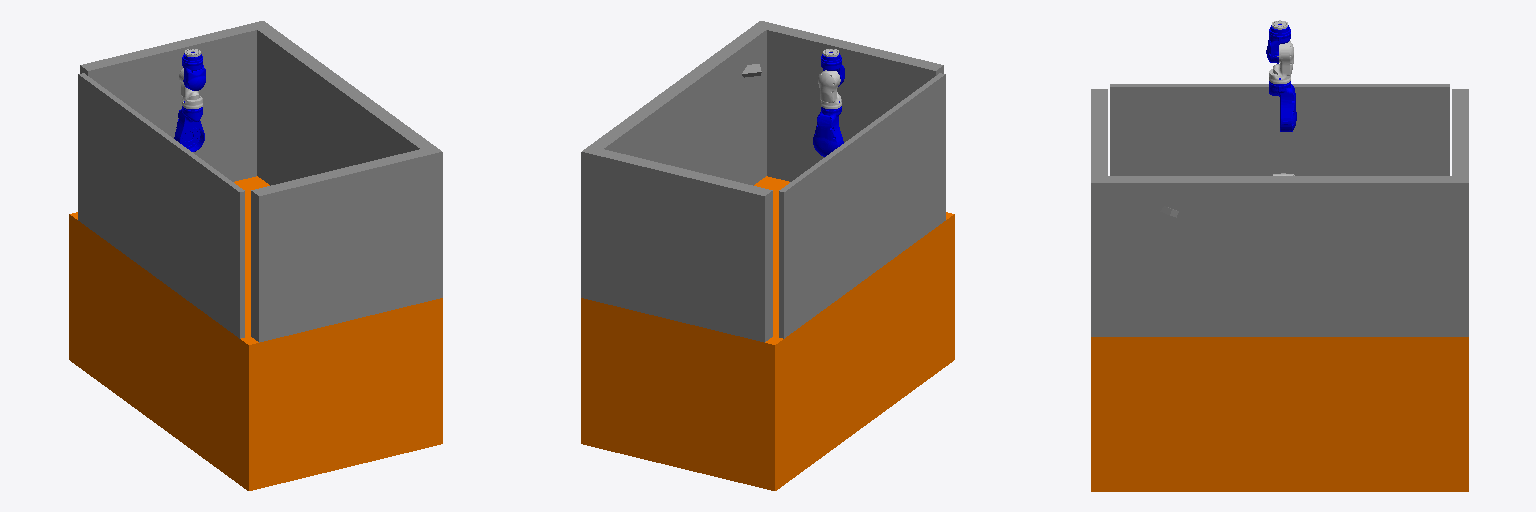
The robot description file, URDF, robot "mantis_sia20d":
<?xml version="1.0" ?>
<!-- =================================================================================== -->
<!-- |    This document was autogenerated by xacro from mantis_sia20d_arm_workspace.xacro | -->
<!-- |    EDITING THIS FILE BY HAND IS NOT RECOMMENDED                                 | -->
<!-- =================================================================================== -->
<robot name="mantis_sia20d" xmlns:xacro="http://ros.org/wiki/xacro">
  <!--include filename="$(find mantis_config)/urdf/vacuum_gripper.xacro"/-->
  <material name="yellow_transparent">
    <color rgba="0 1 1 0.4"/>
  </material>
  <material name="orange_transparent">
    <color rgba="1 0.5 0 0.4"/>
  </material>
  <material name="gray_transparent">
    <color rgba="0.6 0.6 0.6 0.4"/>
  </material>
  <material name="blue_transparent">
    <color rgba="0 0.8 1 0.4"/>
  </material>
  <link name="workcell_frame"/>
  <!-- property list -->
  <!-- instantiating workcell definitions -->
  <link name="table_base1">
    <visual>
      <origin rpy="0 0 0" xyz="0 0 -0.5"/>
      <geometry>
        <box size="1.3875 2.22 1"/>
      </geometry>
      <material name="orange_transparent"/>
    </visual>
    <collision>
      <origin rpy="0 0 0" xyz="0 0 -0.5"/>
      <geometry>
        <box size="1.3875 2.22 1"/>
      </geometry>
      <material name="blue_transparent"/>
    </collision>
  </link>
  <joint name="workcell_to_table_base1" type="fixed">
    <parent link="workcell_frame"/>
    <child link="table_base1"/>
    <origin rpy="0 0 0" xyz="0.69375 0 0"/>
  </joint>
  <link name="front_wall1">
    <visual>
      <geometry>
        <box size="0.1 2.22 1"/>
      </geometry>
      <material name="gray_transparent"/>
    </visual>
    <collision>
      <geometry>
        <box size="0.1 2.22 1"/>
      </geometry>
      <material name="blue_transparent"/>
    </collision>
  </link>
  <joint name="workcell_frame_to_front_wall1" type="fixed">
    <parent link="workcell_frame"/>
    <child link="front_wall1"/>
    <origin rpy="0 0 0" xyz="1.3375 0 0.5"/>
  </joint>
  <link name="back_wall1">
    <visual>
      <geometry>
        <box size="0.04 2.0 1"/>
      </geometry>
      <material name="gray_transparent"/>
    </visual>
    <collision>
      <geometry>
        <box size="0.04 2.0 1"/>
      </geometry>
      <material name="blue_transparent"/>
    </collision>
  </link>
  <joint name="workcell_frame_to_back_wall1" type="fixed">
    <parent link="workcell_frame"/>
    <child link="back_wall1"/>
    <origin rpy="0 0 0" xyz="0.02 0 0.5"/>
  </joint>
  <link name="left_wall1">
    <visual>
      <geometry>
        <box size="1.221 0.1 1"/>
      </geometry>
      <material name="gray_transparent"/>
    </visual>
    <collision>
      <geometry>
        <box size="1.221 0.1 1"/>
      </geometry>
      <material name="blue_transparent"/>
    </collision>
  </link>
  <joint name="workcell_frame_to_left_wall1" type="fixed">
    <parent link="workcell_frame"/>
    <child link="left_wall1"/>
    <origin rpy="0 0 0" xyz="0.687 1.06 0.5"/>
  </joint>
  <link name="right_wall1">
    <visual>
      <geometry>
        <box size="1.221 0.1 1"/>
      </geometry>
      <material name="gray_transparent"/>
    </visual>
    <collision>
      <geometry>
        <box size="1.221 0.1 1"/>
      </geometry>
      <material name="blue_transparent"/>
    </collision>
  </link>
  <joint name="workcell_frame_to_right_wall1" type="fixed">
    <parent link="workcell_frame"/>
    <child link="right_wall1"/>
    <origin rpy="0 0 0" xyz="0.687 -1.06 0.5"/>
  </joint>
  <!-- end of workcell definitions -->
  <!-- instantiating sensor definitions -->
  <!--xacro:sensor_definitions prefix="${arm_prefix}" parent_link="workcell_frame" 
		x_val="1.20" y_val="0" z_val="0.4" pitch="0.5235" yaw="3.147"/-->
  <material name="sia20d_arm_color_b">
    <color rgba="0 0.8 1 0.4"/>
  </material>
  <material name="sia20d_arm_color_a">
    <color rgba="0.8 0.2 1 0.2"/>
  </material>
  <material name="sia20d_arm_silver">
    <color rgba="0.6 0.6 0.6 1"/>
  </material>
  <link name="sia20d_arm_kinect_link">
    <collision>
      <material name="sia20d_arm_color_a"/>
      <geometry>
        <box size="0.36 0.28 0.22"/>
      </geometry>
    </collision>
  </link>
  <link name="sia20d_arm_kinect_keepout">
    <collision>
      <material name="sia20d_arm_color_b"/>
      <geometry>
        <box size="0.2 0.32 0.9"/>
      </geometry>
    </collision>
  </link>
  <link name="sia20d_arm_kinect_frame">
    <visual>
      <origin rpy="0 0 0" xyz="0 0 0"/>
      <geometry>
        <box size="0.064 0.28 0.04"/>
      </geometry>
      <material name="sia20d_arm_silver"/>
    </visual>
    <collision>
      <origin rpy="0 0 0" xyz="0 0 0"/>
      <geometry>
        <box size="0.064 0.28 0.04"/>
      </geometry>
    </collision>
  </link>
  <link name="sia20d_arm_kinect_ir_link">
    <visual>
      <origin rpy="0 0 0" xyz="0 0 0"/>
      <geometry>
        <sphere radius="0.0005"/>
      </geometry>
    </visual>
  </link>
  <link name="sia20d_arm_kinect_rgb_link">
    <visual>
      <origin rpy="0 0 0" xyz="0 0 0"/>
      <geometry>
        <sphere radius="0.0005"/>
      </geometry>
    </visual>
  </link>
  <link name="sia20d_arm_kinect_ir_optical_frame"/>
  <link name="sia20d_arm_kinect_rgb_optical_frame"/>
  <joint name="sia20d_arm_kinect_frame_joint" type="fixed">
    <parent link="sia20d_arm_kinect_link"/>
    <child link="sia20d_arm_kinect_frame"/>
    <origin rpy="0 0 0" xyz="0 0 0"/>
  </joint>
  <joint name="sia20d_arm_kinect_ir_joint" type="fixed">
    <parent link="sia20d_arm_kinect_frame"/>
    <child link="sia20d_arm_kinect_ir_link"/>
    <origin rpy="0 0 0" xyz="0 0 0"/>
  </joint>
  <joint name="sia20d_arm_kinect_ir_optical_frame_joint" type="fixed">
    <parent link="sia20d_arm_kinect_ir_link"/>
    <child link="sia20d_arm_kinect_ir_optical_frame"/>
    <origin rpy="-1.57 0 -1.57" xyz="0 0 0"/>
  </joint>
  <joint name="sia20d_arm_kinect_rgb_joint" type="fixed">
    <parent link="sia20d_arm_kinect_ir_link"/>
    <child link="sia20d_arm_kinect_rgb_link"/>
    <origin rpy="0 0 0" xyz="0 -0.03 0"/>
  </joint>
  <joint name="sia20d_arm_kinect_rgb_optical_frame_joint" type="fixed">
    <parent link="sia20d_arm_kinect_rgb_link"/>
    <child link="sia20d_arm_kinect_rgb_optical_frame"/>
    <origin rpy="-1.57 0 -1.57" xyz="0 0 0"/>
  </joint>
  <joint name="sia20d_arm_sia20d_arm_base_link_to_kinect_link" type="fixed">
    <parent link="sia20d_arm_base_link"/>
    <child link="sia20d_arm_kinect_link"/>
    <origin rpy="0 0.5235 2.356" xyz="1.08 -0.72 0.82"/>
  </joint>
  <joint name="sia20d_arm_sia20d_arm_base_link_to_kinect_keepout" type="fixed">
    <parent link="sia20d_arm_base_link"/>
    <child link="sia20d_arm_kinect_keepout"/>
    <origin rpy="0 0 2.356" xyz="1.08 -0.72 0.45"/>
  </joint>
  <!-- end of sensor definitions -->
  <!-- instantiating arm and gripper -->
  <link name="sia20d_arm_gripper_frame"/>
  <link name="sia20d_arm_gripper_body">
    <visual>
      <!--origin xyz="0 0.036 -0.0473" rpy="0 0 0"/-->
      <!--geometry>
					<box size="${gripper_length} ${gripper_width} ${gripper_height}"/>
				</geometry-->
      <origin rpy="0 0 0" xyz="0 0 -0.048"/>
      <geometry>
        <mesh filename="package://mantis_config/config/meshes/vacuum_gripper_vis.STL"/>
      </geometry>
      <material name="silver">
        <color rgba="0.8 0.8 0.8 1"/>
      </material>
    </visual>
    <collision>
      <geometry>
        <box size="0.044 0.088 0.0946"/>
      </geometry>
      <material name="another_blue2">
        <color rgba="0.38 0.54 0.83 1"/>
      </material>
    </collision>
  </link>
  <link name="sia20d_arm_tcp_frame"/>
  <joint name="sia20d_arm_gripper_to_palm" type="fixed">
    <parent link="sia20d_arm_gripper_frame"/>
    <child link="sia20d_arm_gripper_body"/>
    <origin rpy="0 0 0" xyz="0 0 0.0473"/>
  </joint>
  <joint name="sia20d_arm_gripper_to_tcp" type="fixed">
    <parent link="sia20d_arm_gripper_frame"/>
    <child link="sia20d_arm_tcp_frame"/>
    <origin rpy="0 0 0" xyz=" 0 0.022 0.0946"/>
  </joint>
  <link name="sia20d_arm_base_link">
    <visual>
      <geometry>
        <mesh filename="package://motoman_config/meshes/sia20d/visual/MOTOMAN_BASE.stl"/>
      </geometry>
      <material name="blue">
        <color rgba="0 0 1 1"/>
      </material>
    </visual>
    <collision>
      <geometry>
        <mesh filename="package://motoman_config/meshes/sia20d/collision/MOTOMAN_BASE.stl"/>
      </geometry>
      <material name="yellow">
        <color rgba="0 1 1 1"/>
      </material>
    </collision>
  </link>
  <link name="sia20d_arm_link_s">
    <visual>
      <origin rpy="0 0 3.1416" xyz="0 0 0"/>
      <geometry>
        <mesh filename="package://motoman_config/meshes/sia20d/visual/MOTOMAN_AXIS_S.stl"/>
      </geometry>
      <material name="silver">
        <color rgba="0.8 0.8 0.8 1"/>
      </material>
    </visual>
    <collision>
      <origin rpy="0 0 3.1416" xyz="0 0 0"/>
      <geometry>
        <mesh filename="package://motoman_config/meshes/sia20d/collision/MOTOMAN_AXIS_S.stl"/>
      </geometry>
      <material name="yellow"/>
    </collision>
  </link>
  <link name="sia20d_arm_link_l">
    <visual>
      <origin rpy="1.57 3.1416 3.1416" xyz="0 0 0"/>
      <geometry>
        <mesh filename="package://motoman_config/meshes/sia20d/visual/MOTOMAN_AXIS_L.stl"/>
      </geometry>
      <material name="blue"/>
    </visual>
    <collision>
      <origin rpy="1.57 3.1416 3.1416" xyz="0 0 0"/>
      <geometry>
        <mesh filename="package://motoman_config/meshes/sia20d/collision/MOTOMAN_AXIS_L.stl"/>
      </geometry>
      <material name="yellow"/>
    </collision>
  </link>
  <link name="sia20d_arm_link_e">
    <visual>
      <origin rpy="0 0 0" xyz="0 0 0"/>
      <geometry>
        <mesh filename="package://motoman_config/meshes/sia20d/visual/MOTOMAN_AXIS_E.stl"/>
      </geometry>
      <material name="silver"/>
    </visual>
    <collision>
      <origin rpy="0 0 0" xyz="0 0 0"/>
      <geometry>
        <mesh filename="package://motoman_config/meshes/sia20d/collision/MOTOMAN_AXIS_E.stl"/>
      </geometry>
      <material name="yellow"/>
    </collision>
  </link>
  <link name="sia20d_arm_link_u">
    <visual>
      <origin rpy="1.57 -3.1415 3.1416" xyz="0 0 0"/>
      <geometry>
        <mesh filename="package://motoman_config/meshes/sia20d/visual/MOTOMAN_AXIS_U.stl"/>
      </geometry>
      <material name="blue"/>
    </visual>
    <collision>
      <origin rpy="1.57 -3.1415 3.1416" xyz="0 0 0"/>
      <geometry>
        <mesh filename="package://motoman_config/meshes/sia20d/collision/MOTOMAN_AXIS_U.stl"/>
      </geometry>
      <material name="yellow"/>
    </collision>
  </link>
  <link name="sia20d_arm_link_r">
    <visual>
      <origin rpy="0 0 0" xyz="0 0 0"/>
      <geometry>
        <mesh filename="package://motoman_config/meshes/sia20d/visual/MOTOMAN_AXIS_R.stl"/>
      </geometry>
      <material name="silver"/>
    </visual>
    <collision>
      <origin rpy="0 0 0" xyz="0 0 0"/>
      <geometry>
        <mesh filename="package://motoman_config/meshes/sia20d/collision/MOTOMAN_AXIS_R.stl"/>
      </geometry>
      <material name="yellow"/>
    </collision>
  </link>
  <link name="sia20d_arm_link_b">
    <visual>
      <origin rpy="-1.57 0 0" xyz="0 0 0"/>
      <geometry>
        <mesh filename="package://motoman_config/meshes/sia20d/visual/MOTOMAN_AXIS_B.stl"/>
      </geometry>
      <material name="blue"/>
    </visual>
    <collision>
      <origin rpy="-1.57 0 0" xyz="0 0 0"/>
      <geometry>
        <mesh filename="package://motoman_config/meshes/sia20d/collision/MOTOMAN_AXIS_B.stl"/>
      </geometry>
      <material name="yellow"/>
    </collision>
  </link>
  <link name="sia20d_arm_link_t">
    <visual>
      <geometry>
        <mesh filename="package://motoman_config/meshes/sia20d/visual/MOTOMAN_AXIS_T.stl"/>
      </geometry>
      <material name="silver"/>
    </visual>
    <collision>
      <geometry>
        <mesh filename="package://motoman_config/meshes/sia20d/collision/MOTOMAN_AXIS_T.stl"/>
      </geometry>
      <material name="yellow"/>
    </collision>
  </link>
  <joint name="joint_s" type="revolute">
    <parent link="sia20d_arm_base_link"/>
    <child link="sia20d_arm_link_s"/>
    <origin rpy="0 0 0" xyz="0 0 0.41"/>
    <axis xyz="0 0 1"/>
    <limit effort="100" lower="-3.1416" upper="3.1416" velocity="2.26"/>
  </joint>
  <joint name="joint_l" type="revolute">
    <parent link="sia20d_arm_link_s"/>
    <child link="sia20d_arm_link_l"/>
    <origin rpy="0 0 0" xyz="0 0 0"/>
    <axis xyz="0 1 0"/>
    <limit effort="100" lower="-1.91" upper="1.91" velocity="2.26"/>
  </joint>
  <joint name="joint_e" type="revolute">
    <parent link="sia20d_arm_link_l"/>
    <child link="sia20d_arm_link_e"/>
    <origin rpy="0 0 0" xyz="0 0 0.49"/>
    <axis xyz="0 0 1"/>
    <limit effort="100" lower="-2.96" upper="2.96" velocity="2.96"/>
  </joint>
  <joint name="joint_u" type="revolute">
    <parent link="sia20d_arm_link_e"/>
    <child link="sia20d_arm_link_u"/>
    <origin rpy="0 0 0" xyz="0 0 0"/>
    <axis xyz="0 -1 0"/>
    <limit effort="100" lower="-2.26" upper="2.26" velocity="2.96"/>
  </joint>
  <joint name="joint_r" type="revolute">
    <parent link="sia20d_arm_link_u"/>
    <child link="sia20d_arm_link_r"/>
    <origin rpy="0 0 0" xyz="0 0 0.420"/>
    <axis xyz="0 0 -1"/>
    <limit effort="100" lower="-3.1416" upper="3.1416" velocity="3.48"/>
  </joint>
  <joint name="joint_b" type="revolute">
    <parent link="sia20d_arm_link_r"/>
    <child link="sia20d_arm_link_b"/>
    <origin rpy="0 0 0" xyz="0 0 0"/>
    <axis xyz="0 -1 0"/>
    <limit effort="100" lower="-1.91" upper="1.91" velocity="3.48"/>
  </joint>
  <joint name="joint_t" type="revolute">
    <parent link="sia20d_arm_link_b"/>
    <child link="sia20d_arm_link_t"/>
    <origin rpy="0 0 0" xyz="0 0 0.18"/>
    <axis xyz="0 0 -1"/>
    <limit effort="100" lower="-3.1416" upper="3.1416" velocity="6.97"/>
  </joint>
  <!-- arm-workcell joint definitions -->
  <joint name="sia20d_to_workcell" type="fixed">
    <parent link="workcell_frame"/>
    <child link="sia20d_arm_base_link"/>
    <origin rpy="0 0 0" xyz="0.241 0 0"/>
  </joint>
  <!-- end of arm workcell joint definitions-->
  <!-- arm-gripper coupling link definitions-->
  <link name="sia20d_arm_coupler">
    <visual>
      <geometry>
        <mesh filename="package://longhorn/meshes/coupler/visual/COUPLER.stl"/>
      </geometry>
      <material name="orange">
        <color rgba="1 0.5 0 1"/>
      </material>
    </visual>
    <collision>
      <geometry>
        <mesh filename="package://longhorn/meshes/coupler/collision/COUPLER.stl"/>
      </geometry>
      <material name="yellow">
        <color rgba="0 1 1 1"/>
      </material>
    </collision>
  </link>
  <!-- end of arm-gripper coupling link definitions -->
  <!-- arm-gripper coupling joint definitions -->
  <!--joint name="tool-coupler" type="fixed"-->
  <joint name="sia20d_arm_tool_to_coupler" type="fixed">
    <parent link="sia20d_arm_link_t"/>
    <child link="sia20d_arm_coupler"/>
    <origin rpy="1.570 0 -0.785" xyz="0 0 0"/>
  </joint>
  <!--joint name="coupler-hand" type="fixed"-->
  <joint name="sia20d_arm_coupler_to_hand" type="fixed">
    <parent link="sia20d_arm_coupler"/>
    <child link="sia20d_arm_gripper_frame"/>
    <!--child link="${arm_prefix}palm"/-->
    <origin rpy="-1.570 0 0" xyz="0 0.087 0"/>
    <!--origin xyz="0 0.182 0.036" rpy="-1.570 0 0"/-->
  </joint>
  <!-- end of arm-gripper coupling joint definitions -->
</robot>

--- Render facts (derived) ---
3 views of the same robot in one strip: view 1: azimuth 30°, elevation 25°; view 2: azimuth 150°, elevation 25°; view 3: azimuth 270°, elevation 25° (orthographic).
Model mantis_sia20d with 25 links and 24 joints (7 revolute, 17 fixed), rooted at workcell_frame, posed every joint at zero.
Visible links, largest first — view 1: table_base1, right_wall1, back_wall1, front_wall1, left_wall1, sia20d_arm_link_u, sia20d_arm_link_b; view 2: table_base1, left_wall1, back_wall1, front_wall1, right_wall1, sia20d_arm_link_u, sia20d_arm_link_r; view 3: front_wall1, table_base1, back_wall1, right_wall1, left_wall1, sia20d_arm_link_u, sia20d_arm_link_r, sia20d_arm_link_b.
Boxes of the visible links, left/top/right/bottom form: table_base1: left=69, top=176, right=442, bottom=490; right_wall1: left=251, top=149, right=429, bottom=342; back_wall1: left=78, top=73, right=244, bottom=338; front_wall1: left=250, top=21, right=442, bottom=300; left_wall1: left=80, top=24, right=258, bottom=181; sia20d_arm_link_u: left=174, top=101, right=204, bottom=151; sia20d_arm_link_b: left=182, top=52, right=205, bottom=90; table_base1: left=581, top=176, right=954, bottom=490; left_wall1: left=594, top=149, right=772, bottom=342; back_wall1: left=779, top=73, right=945, bottom=338; front_wall1: left=581, top=21, right=773, bottom=300; right_wall1: left=765, top=24, right=943, bottom=181; sia20d_arm_link_u: left=813, top=101, right=843, bottom=156; sia20d_arm_link_r: left=818, top=70, right=841, bottom=108; front_wall1: left=1091, top=176, right=1468, bottom=336; table_base1: left=1091, top=337, right=1468, bottom=491; back_wall1: left=1110, top=84, right=1449, bottom=175; right_wall1: left=1091, top=89, right=1107, bottom=176; left_wall1: left=1452, top=89, right=1468, bottom=176; sia20d_arm_link_u: left=1269, top=78, right=1296, bottom=131; sia20d_arm_link_r: left=1269, top=41, right=1293, bottom=83; sia20d_arm_link_b: left=1266, top=24, right=1290, bottom=63.
Size in the robot's own frame: 1.45 by 2.22 by 2.5 metres.
Meshes: 10 distinct files referenced, 6 mesh visuals loaded (6 binary STL); not drawn: 4 (reference not matched to a file when rendering).